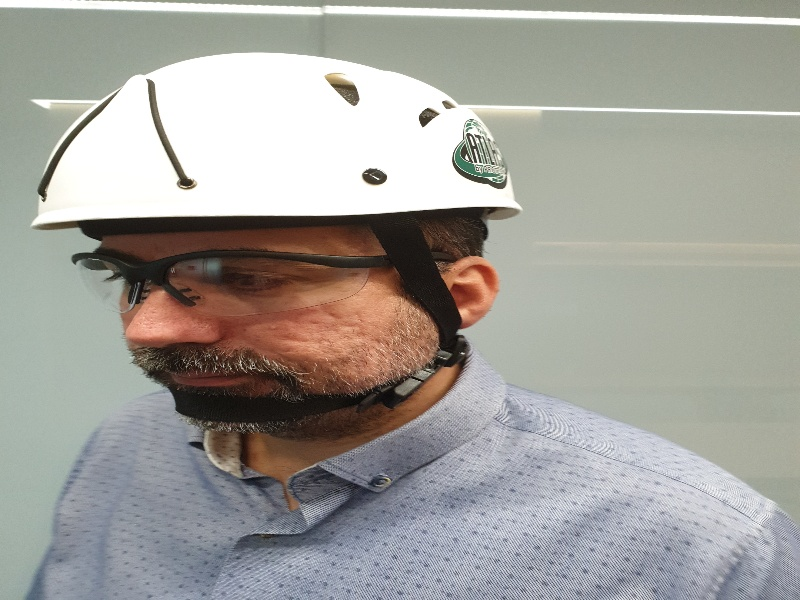Baret: (20, 51, 520, 216)
Gozluk: (67, 249, 473, 307)
